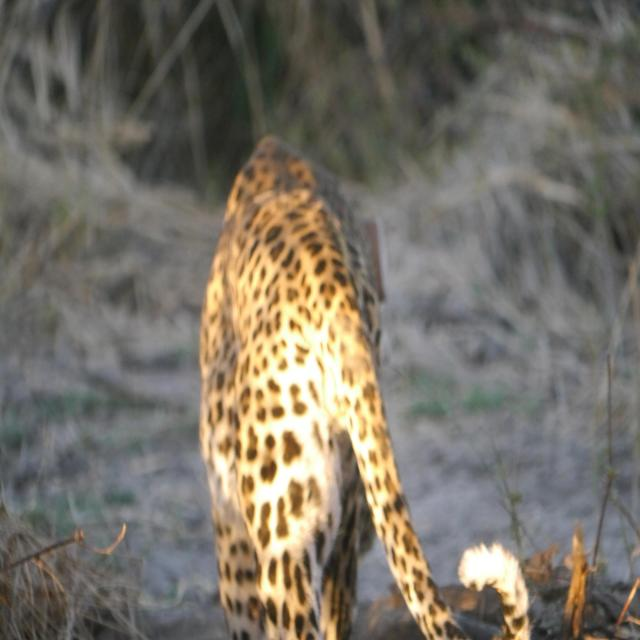Leopard: (187, 97, 562, 640)
